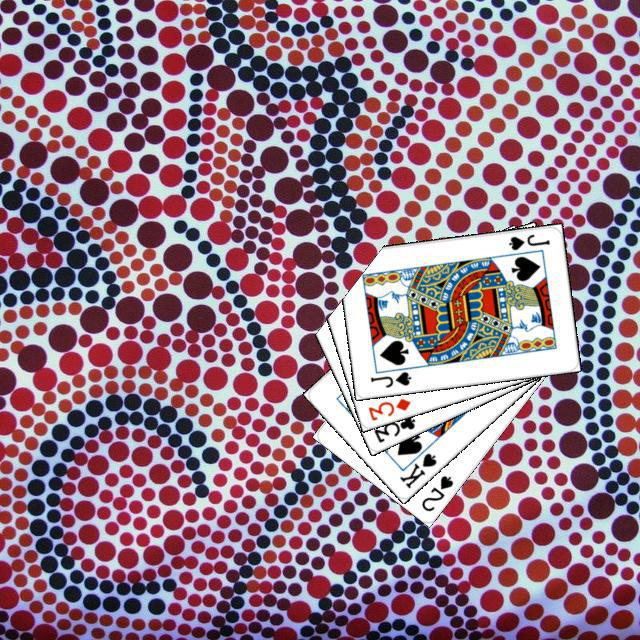2s: (416, 470, 455, 513)
3c: (369, 410, 417, 445)
3d: (363, 393, 412, 422)
Js: (504, 229, 551, 252), (365, 367, 413, 389)
Ks: (394, 448, 438, 490)
